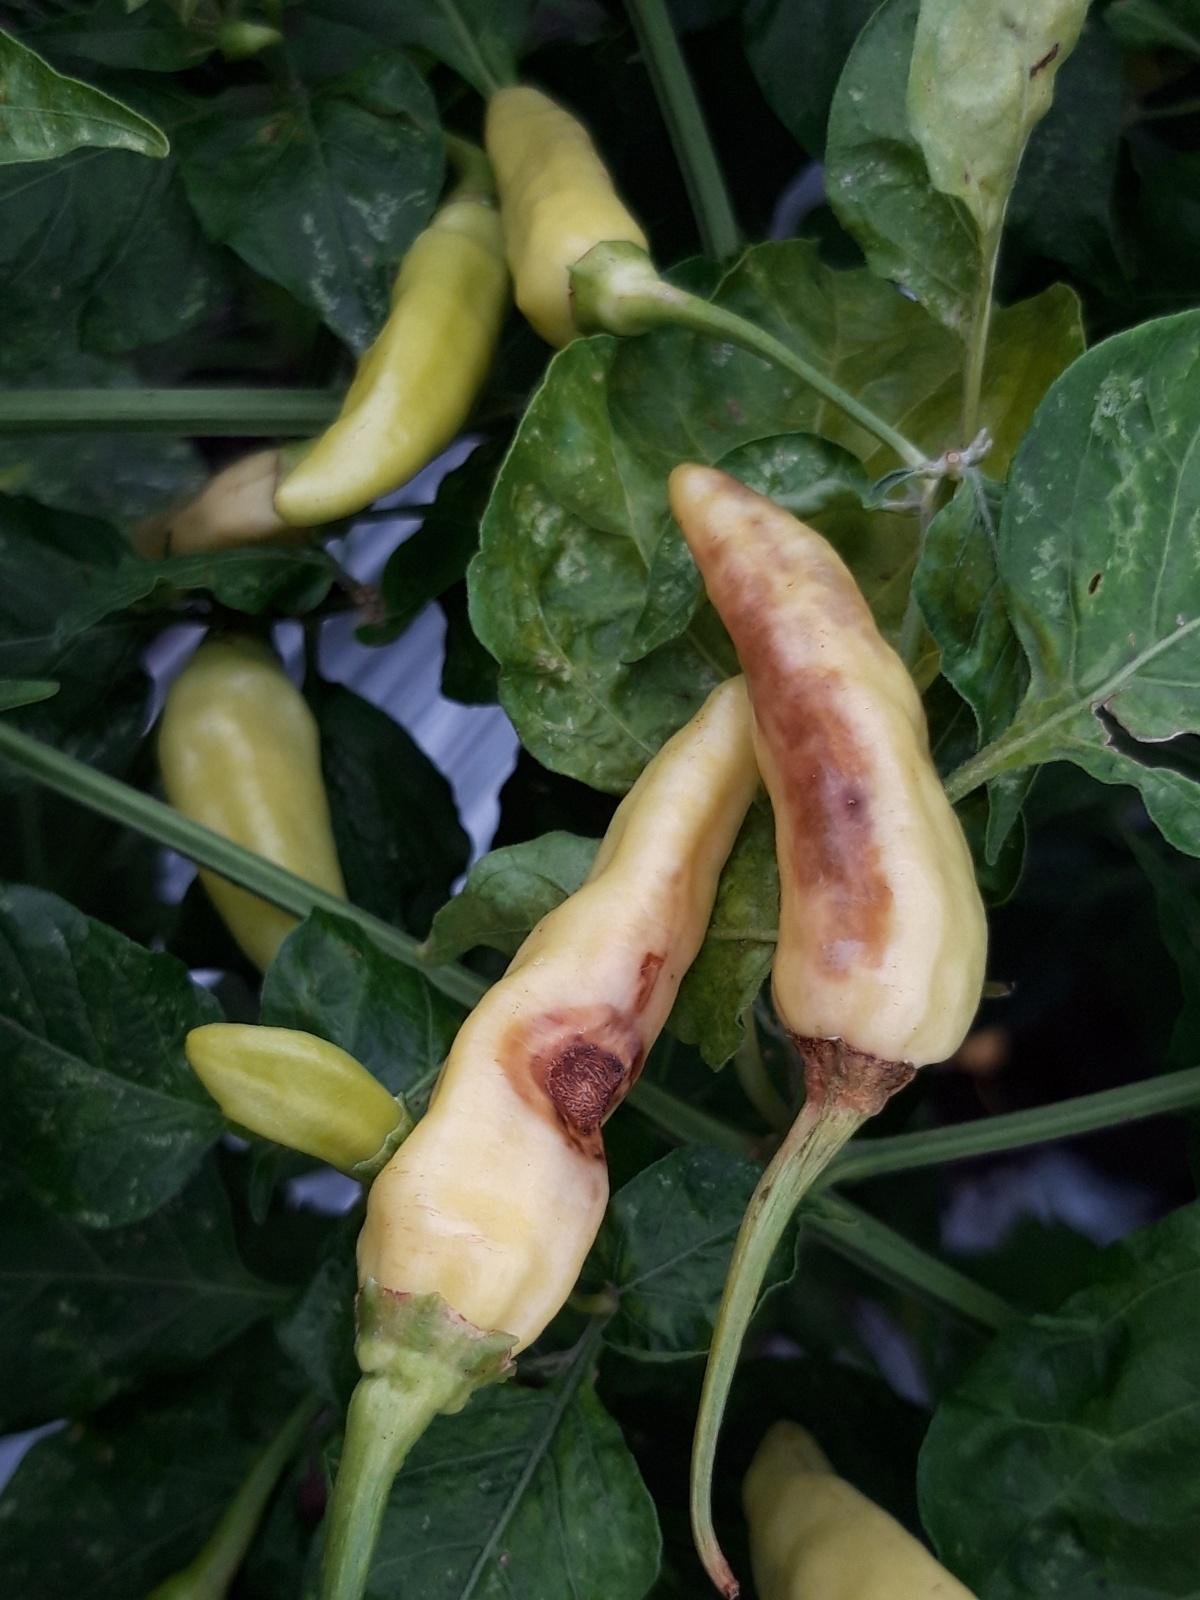cabai_normal: (275, 178, 503, 528), (156, 641, 343, 975), (487, 84, 650, 350), (747, 1421, 979, 1600), (184, 1023, 411, 1182)
lalat_buah: (353, 678, 761, 1380), (666, 461, 984, 1111)
